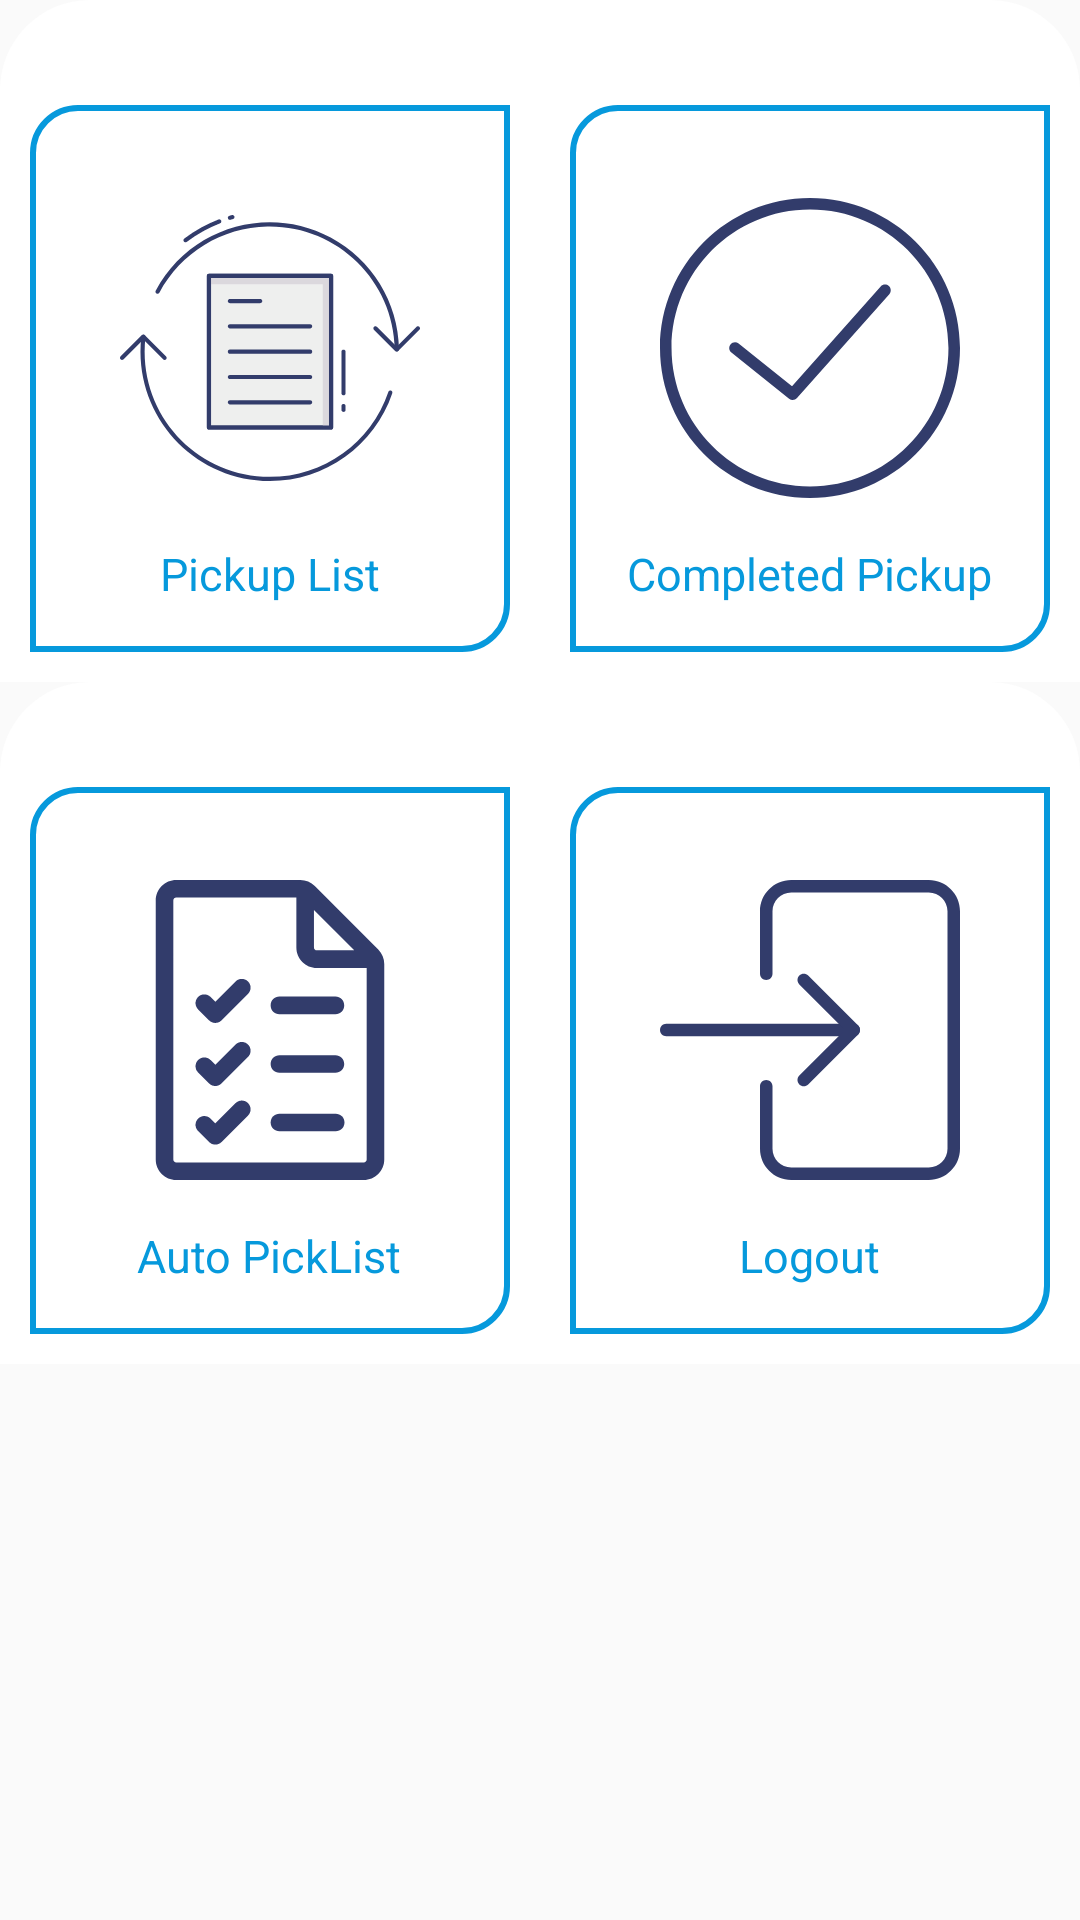

Point at icon controls on the screen. Image size 1080w x 1920h, points as (x,y).
success: (810,348)
